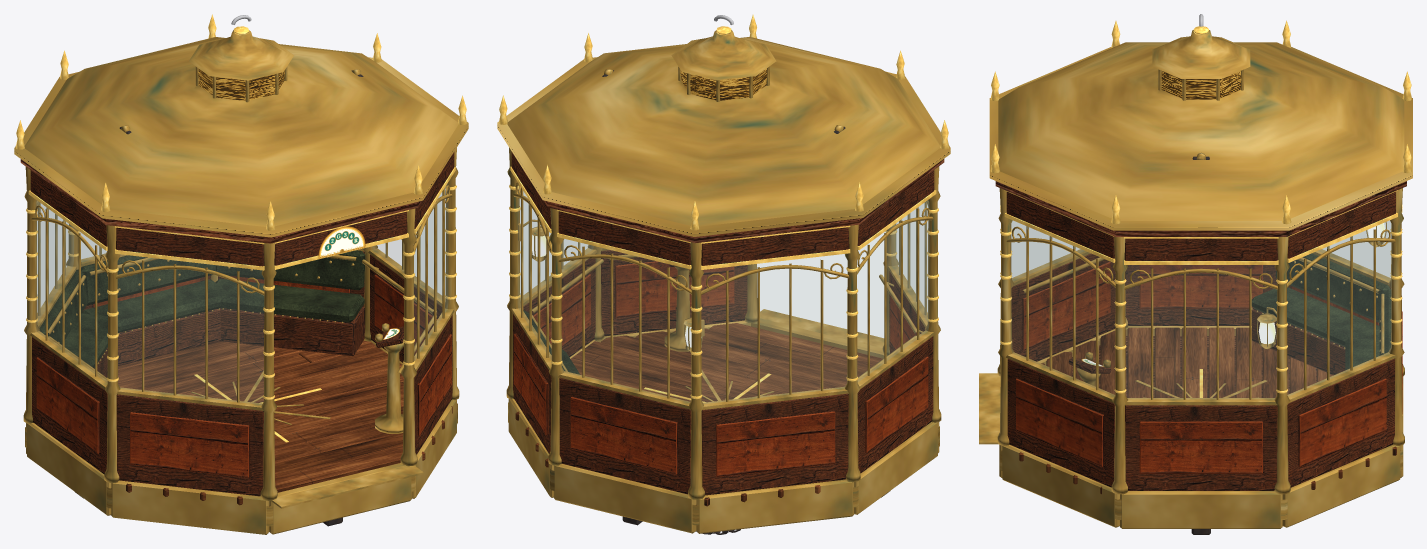
The model's file is sp_lift_cab.glb.
The picture shows the model from 3 angles, left to right: view 1: azimuth 30°, elevation 25°; view 2: azimuth 150°, elevation 25°; view 3: azimuth 270°, elevation 25°; orthographic projection.
Parts seen in each view (by area): view 1: spire; view 2: spire; view 3: spire.
Boxes of the visible parts, x1,y1,x2,y2 form: spire: (14, 14, 468, 534); spire: (497, 14, 950, 534); spire: (979, 14, 1412, 534).
Bounding box in the file's own units: 4.38 × 5.67 × 4.49.
13 materials, 10 textured.
